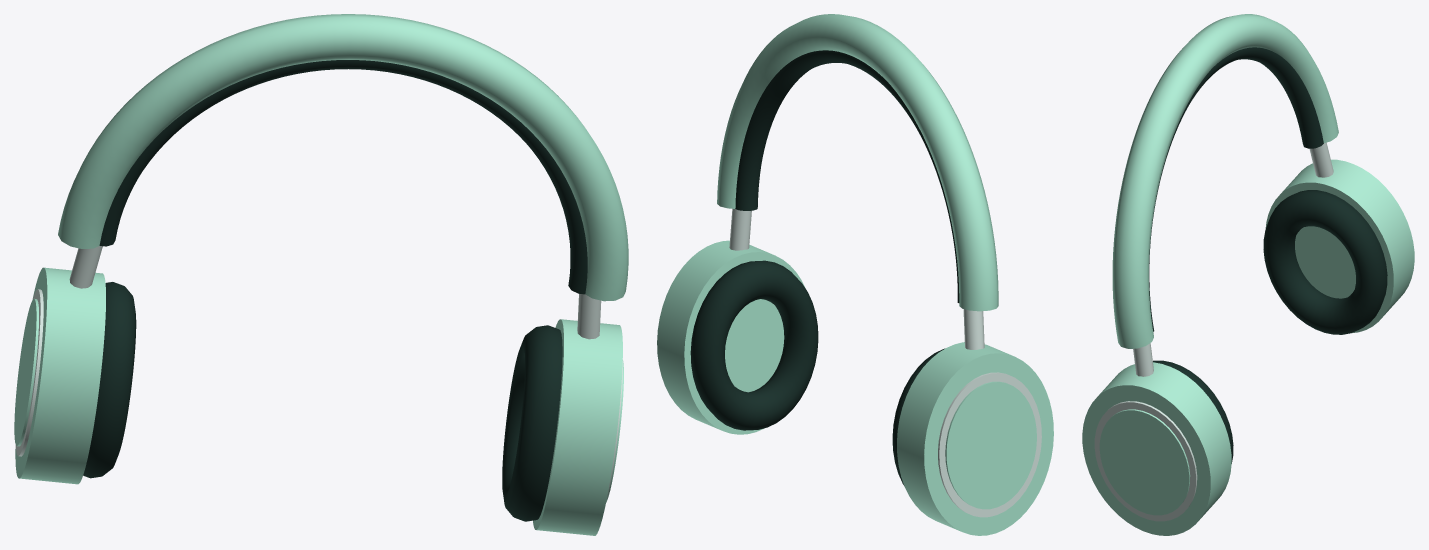
Rendered from studio-headphones.glb.
3 renders of one model, left to right at view 1: azimuth 30°, elevation 25°; view 2: azimuth 150°, elevation 25°; view 3: azimuth 270°, elevation 25°, orthographic. The views are drawn at different scales.
Visible parts, largest first — view 1: Headband, Ear cup (×2), Ear cushion (×2), Padded headband, Outer panel, Adjustable arm (×2), Outer accent; view 2: Ear cup (×2), Headband, Ear cushion (×2), Outer panel, Padded headband, Outer accent, Adjustable arm (×2); view 3: Ear cup (×2), Headband, Ear cushion (×2), Outer panel, Padded headband, Outer accent, Adjustable arm (×2).
Part boxes in pixels (x1=…): Headband: x1=58, y1=14, x2=628, y2=301; Ear cup (×2): x1=15, y1=267, x2=622, y2=535; Ear cushion (×2): x1=83, y1=282, x2=562, y2=521; Padded headband: x1=99, y1=60, x2=587, y2=294; Outer panel: x1=14, y1=298, x2=38, y2=446; Adjustable arm (×2): x1=69, y1=246, x2=601, y2=339; Outer accent: x1=15, y1=289, x2=43, y2=456; Ear cup (×2): x1=657, y1=240, x2=1053, y2=535; Headband: x1=717, y1=14, x2=998, y2=311; Ear cushion (×2): x1=690, y1=260, x2=944, y2=485; Outer panel: x1=945, y1=381, x2=1036, y2=509; Padded headband: x1=735, y1=50, x2=959, y2=302; Outer accent: x1=938, y1=372, x2=1041, y2=517; Adjustable arm (×2): x1=729, y1=208, x2=984, y2=349; Ear cup (×2): x1=1082, y1=159, x2=1414, y2=535; Headband: x1=1112, y1=14, x2=1338, y2=348; Ear cushion (×2): x1=1153, y1=190, x2=1387, y2=463; Outer panel: x1=1099, y1=409, x2=1190, y2=515; Padded headband: x1=1149, y1=47, x2=1323, y2=331; Outer accent: x1=1094, y1=401, x2=1197, y2=521; Adjustable arm (×2): x1=1133, y1=142, x2=1333, y2=376.
Size of the model in its own units: 2.32 by 2.3 by 1.64.
